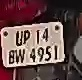1: (34, 28, 42, 45), (53, 44, 59, 61)
4: (41, 27, 51, 44), (28, 47, 37, 63)
5: (44, 45, 54, 61)
9: (36, 46, 45, 63)
B: (8, 47, 15, 65)
P: (22, 29, 31, 48)
U: (13, 29, 24, 47)
W: (14, 48, 27, 63)
